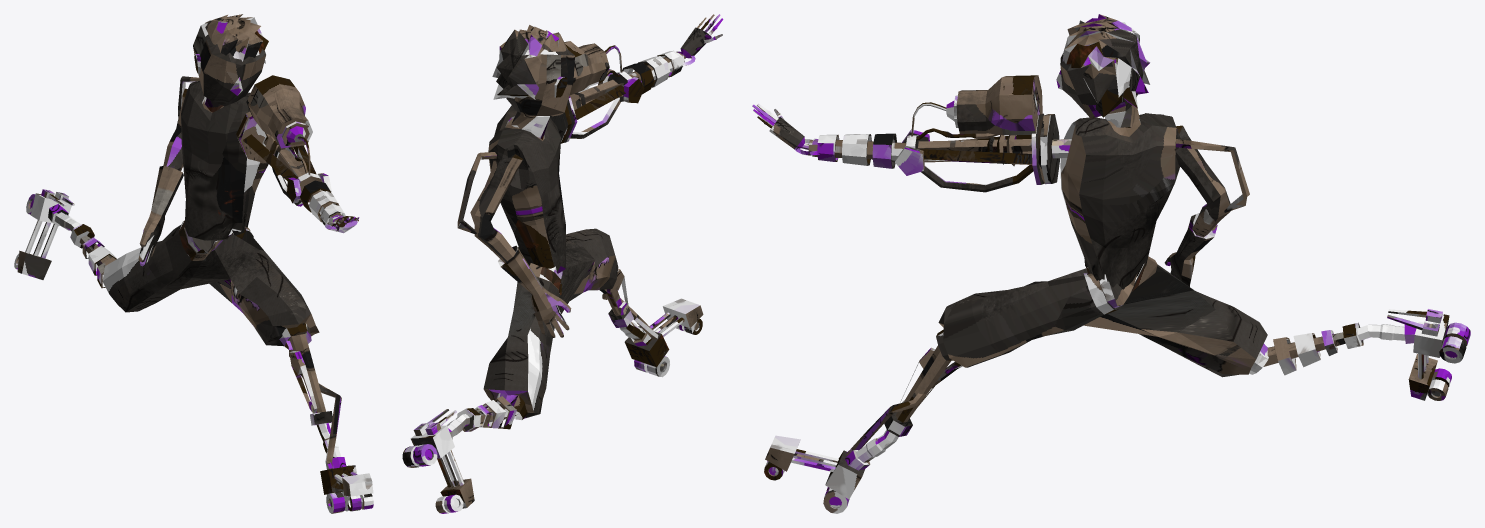
The model's file is CyborgFINALAnimation_000031.obj.
The picture shows the model from 3 angles, left to right: view 1: azimuth 30°, elevation 25°; view 2: azimuth 150°, elevation 25°; view 3: azimuth 270°, elevation 25°; orthographic projection. The views are drawn at different scales.
Parts seen in each view (by area): view 1: CyborgMesh_Cube.002; view 2: CyborgMesh_Cube.002; view 3: CyborgMesh_Cube.002.
Boxes of the visible parts, bbox=[...] form: CyborgMesh_Cube.002: bbox=[14, 14, 373, 513]; CyborgMesh_Cube.002: bbox=[402, 14, 723, 513]; CyborgMesh_Cube.002: bbox=[752, 14, 1470, 513].
Size of the model in its own units: 2.3 by 7.82 by 10.48.
